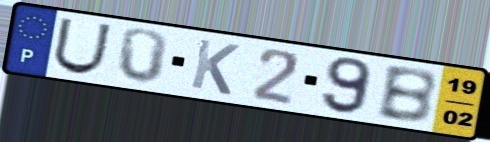0: (116, 27, 171, 86)
2: (248, 48, 301, 107)
9: (318, 55, 375, 117)
B: (373, 65, 439, 126)
K: (187, 36, 243, 98)
U: (50, 16, 115, 76)
